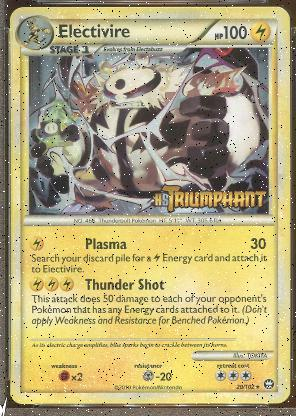Card: (8, 6, 290, 406)
